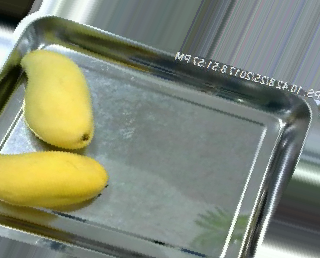Mango: (17, 50, 94, 151), (0, 151, 109, 208)
